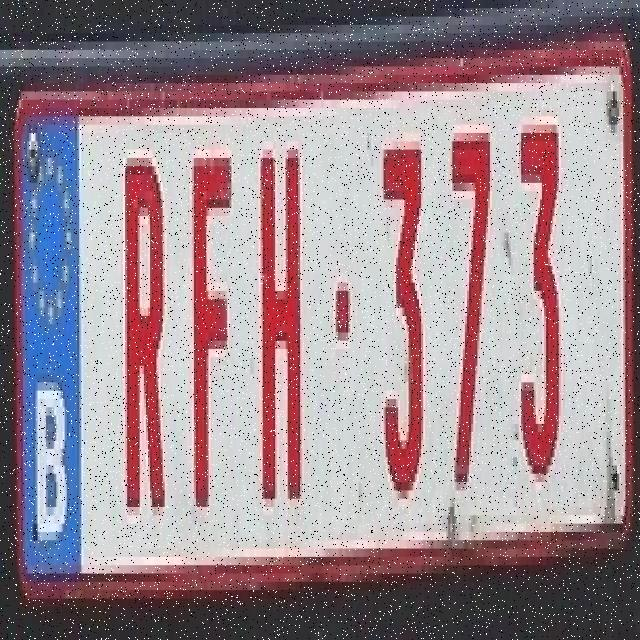licenseplate: (8, 21, 632, 598)
